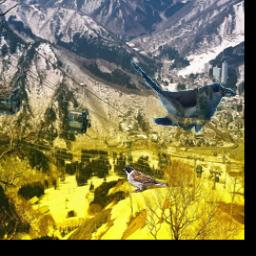Cuckoo: (130, 60, 235, 134)
Sparrow: (122, 166, 168, 194)
